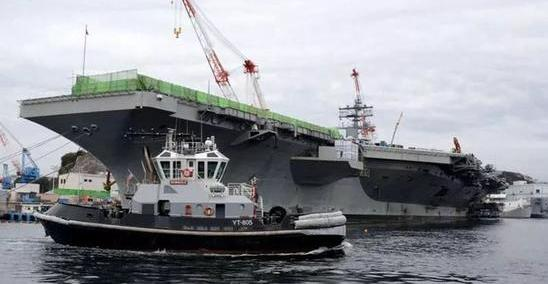airplane: (34, 124, 351, 252)
warship: (21, 48, 528, 222)
